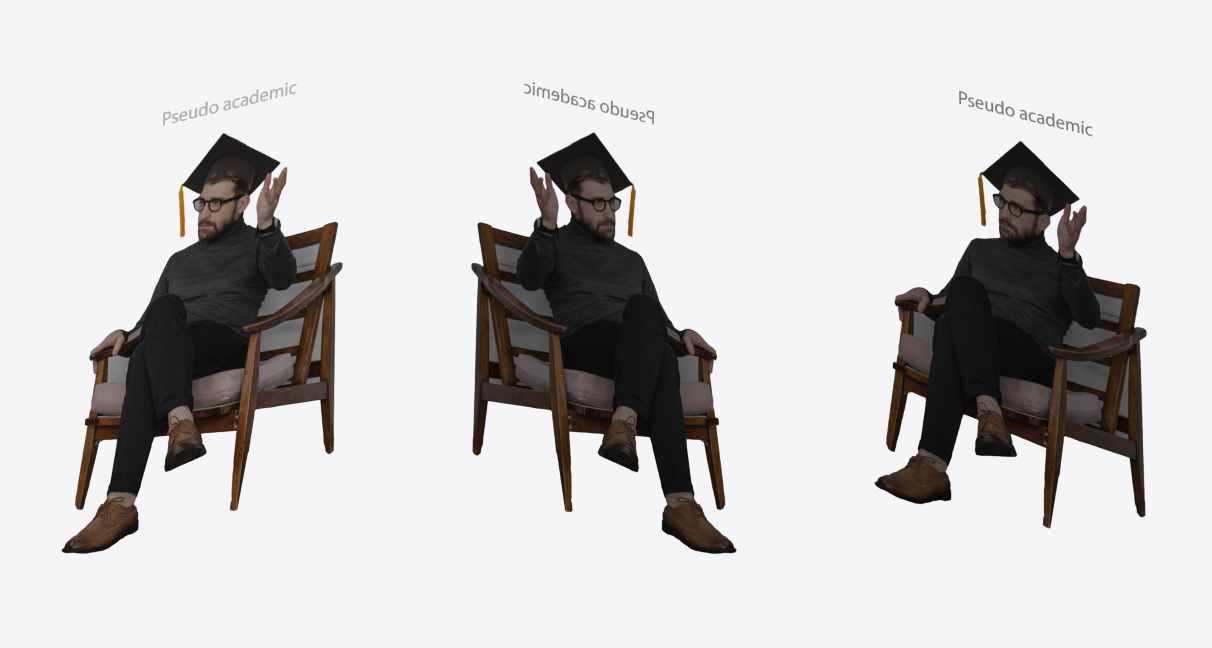
File: Pseudo academic.glb
3 views of the same model, side by side, from view 1: azimuth 30°, elevation 25°; view 2: azimuth 150°, elevation 25°; view 3: azimuth 330°, elevation 25° (orthographic). The views are drawn at different scales.
Parts seen in each view (by area): view 1: pseudo acadamic; view 2: pseudo acadamic; view 3: pseudo acadamic.
Boxes of the visible parts, bbox=[...] form: pseudo acadamic: bbox=[61, 83, 342, 553]; pseudo acadamic: bbox=[471, 82, 736, 553]; pseudo acadamic: bbox=[874, 91, 1146, 528].
Size of the model in its own units: 0.7843 by 1.1 by 0.0404.
1 material, 1 textured.
